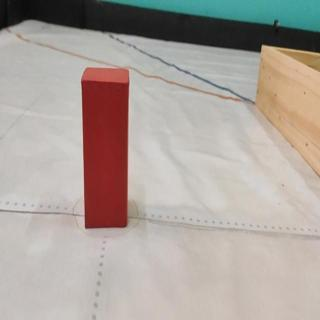redbox: (81, 65, 129, 228)
